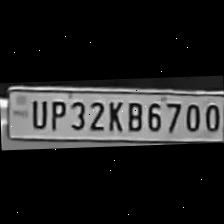0: (199, 99, 221, 130), (180, 98, 200, 131)
2: (86, 96, 104, 130)
3: (66, 96, 86, 130)
6: (142, 97, 162, 130)
7: (163, 98, 181, 132)
B: (122, 98, 144, 132)
K: (104, 97, 122, 131)
P: (45, 96, 65, 130)
U: (26, 95, 46, 128)
